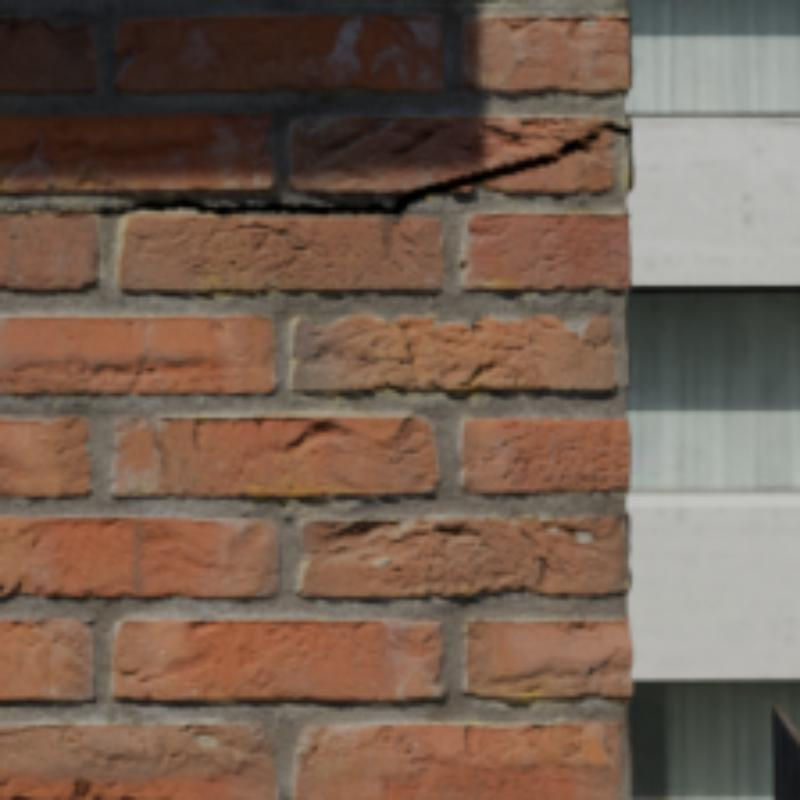pothole: (2, 126, 624, 212)
